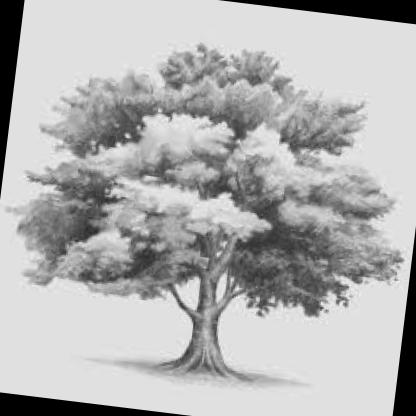branch_cut: (157, 222, 258, 327)
crown_cloud: (13, 18, 416, 332)
root_none: (156, 352, 254, 392)
trunk_bark: (182, 322, 230, 358)
